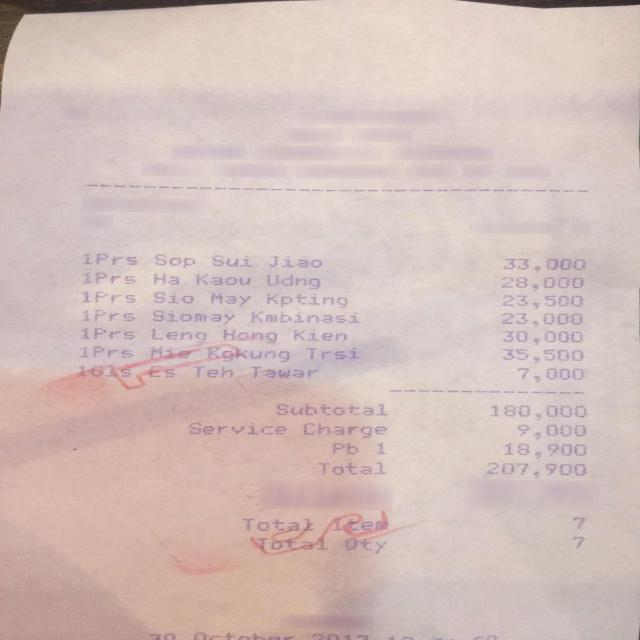text: (486, 462, 586, 478), (491, 404, 586, 420), (188, 421, 287, 436), (204, 346, 290, 362), (501, 330, 584, 346), (501, 348, 584, 364), (504, 442, 586, 458), (303, 422, 385, 438), (250, 311, 358, 323), (274, 404, 386, 415), (501, 294, 583, 309), (518, 423, 586, 440), (152, 310, 234, 324), (503, 258, 585, 272), (242, 518, 313, 534), (266, 294, 347, 308), (502, 312, 582, 326), (255, 537, 328, 552), (501, 277, 584, 290), (192, 630, 296, 640), (73, 363, 146, 377), (517, 367, 583, 382), (330, 517, 388, 534), (305, 346, 363, 362), (144, 344, 201, 360), (76, 252, 138, 266), (318, 462, 384, 475), (266, 274, 322, 289), (250, 366, 318, 378), (150, 328, 206, 342), (265, 256, 324, 269), (222, 328, 276, 342), (81, 271, 137, 284), (80, 327, 135, 340), (387, 634, 501, 640), (196, 274, 252, 286), (78, 346, 134, 358), (80, 291, 135, 303), (81, 309, 136, 321), (342, 538, 386, 553), (292, 329, 346, 341), (208, 255, 256, 268), (154, 254, 195, 269), (210, 293, 250, 306), (153, 292, 194, 304), (151, 364, 187, 377), (194, 366, 233, 377), (312, 633, 368, 640), (331, 442, 358, 454), (154, 273, 179, 284), (148, 632, 178, 640), (571, 536, 584, 548), (572, 517, 584, 529), (377, 442, 384, 453)
